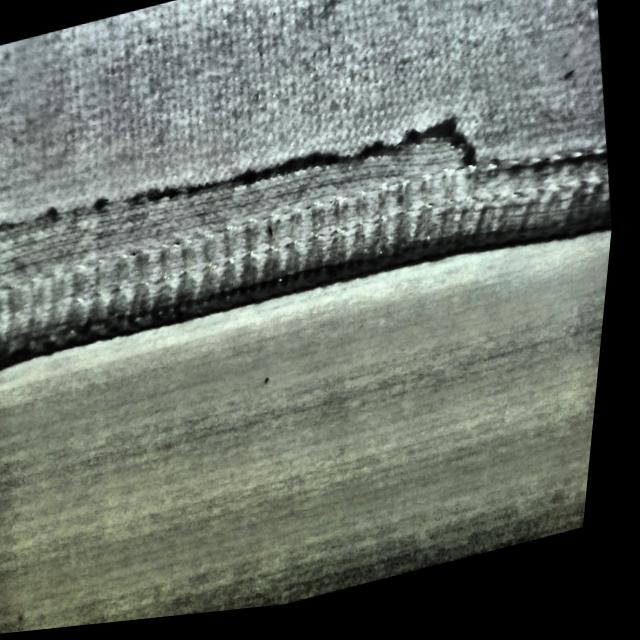seam: (0, 75, 500, 380)
